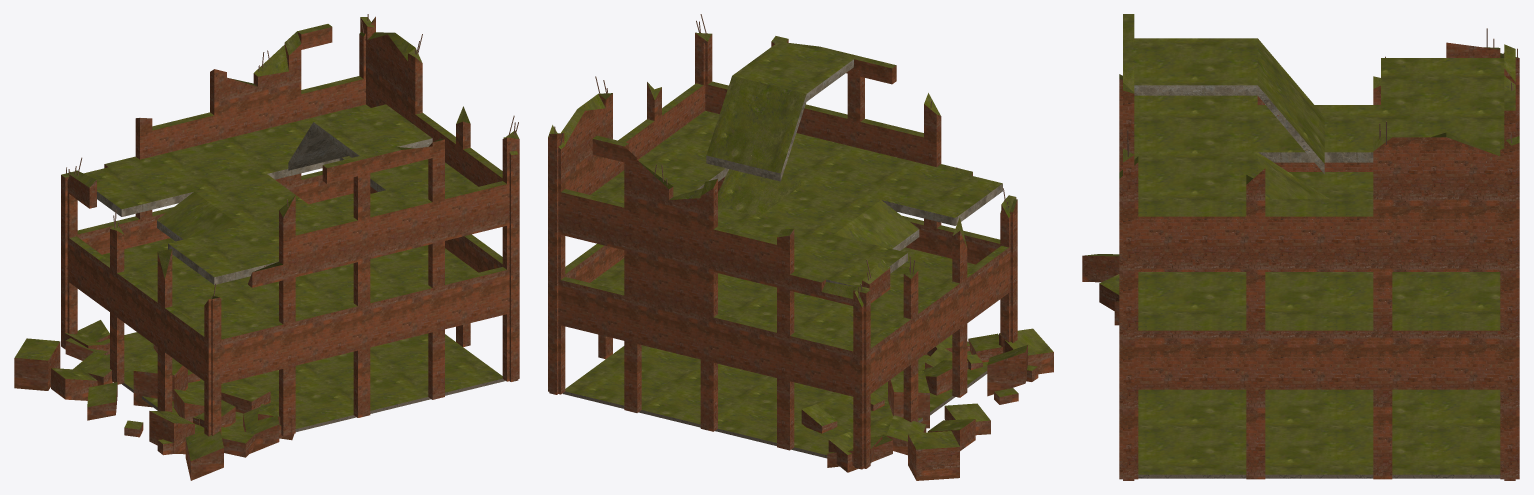
Rendered from bld_e.gltf.
3 renders of one model, left to right at view 1: azimuth 30°, elevation 25°; view 2: azimuth 150°, elevation 25°; view 3: azimuth 270°, elevation 25°, orthographic. The views are drawn at different scales.
Parts seen in each view (by area): view 1: bld_e; view 2: bld_e; view 3: bld_e.
Boxes of the visible parts, x1,y1,x2,y2 form: bld_e: (14, 14, 519, 480); bld_e: (548, 14, 1053, 480); bld_e: (1082, 14, 1519, 480).
Bounding box in the file's own units: 15.38 × 11.08 × 11.46.
